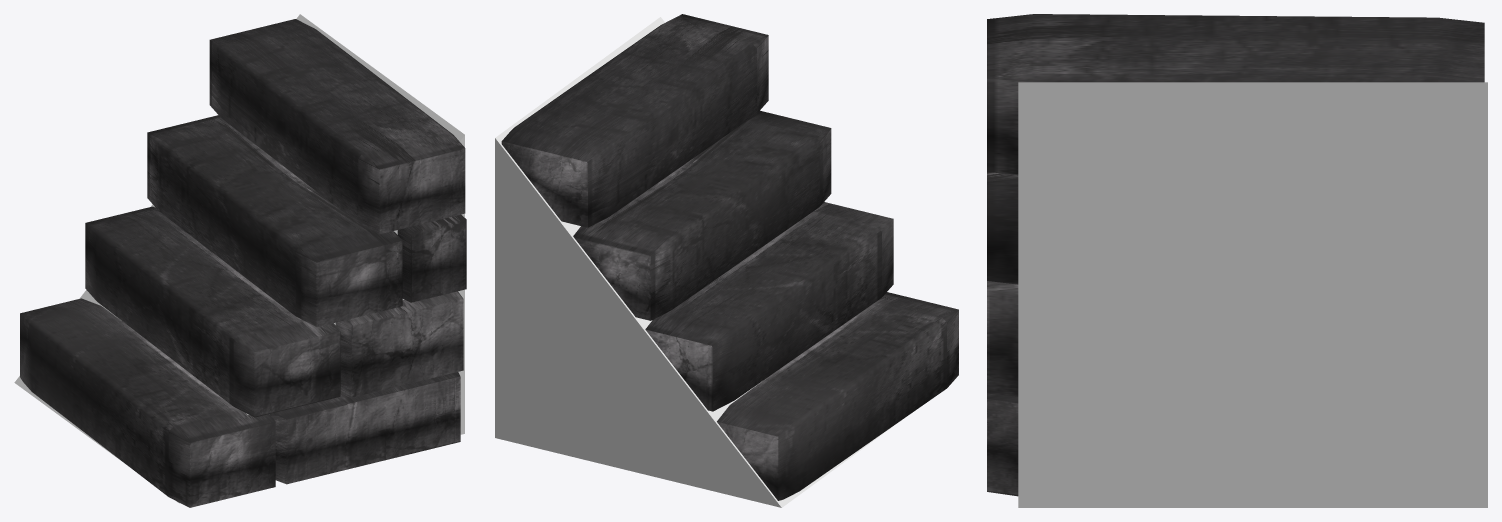
File: Stairs.fbx
The picture shows the model from 3 angles, left to right: view 1: azimuth 30°, elevation 25°; view 2: azimuth 150°, elevation 25°; view 3: azimuth 270°, elevation 25°; orthographic projection. The views are drawn at different scales.
Parts seen in each view (by area): view 1: block4, Cube.007; view 2: block4, Cube.007; view 3: Cube.007, block4.
Part boxes in pixels (x1,y1,x2,y2): block4: (20, 19, 466, 507); Cube.007: (14, 14, 464, 503); block4: (501, 14, 958, 500); Cube.007: (495, 17, 899, 507); Cube.007: (1018, 82, 1487, 507); block4: (987, 14, 1484, 496).
Size of the model in its own units: 1.02 by 1 by 1.07.
1 material, 1 textured.
